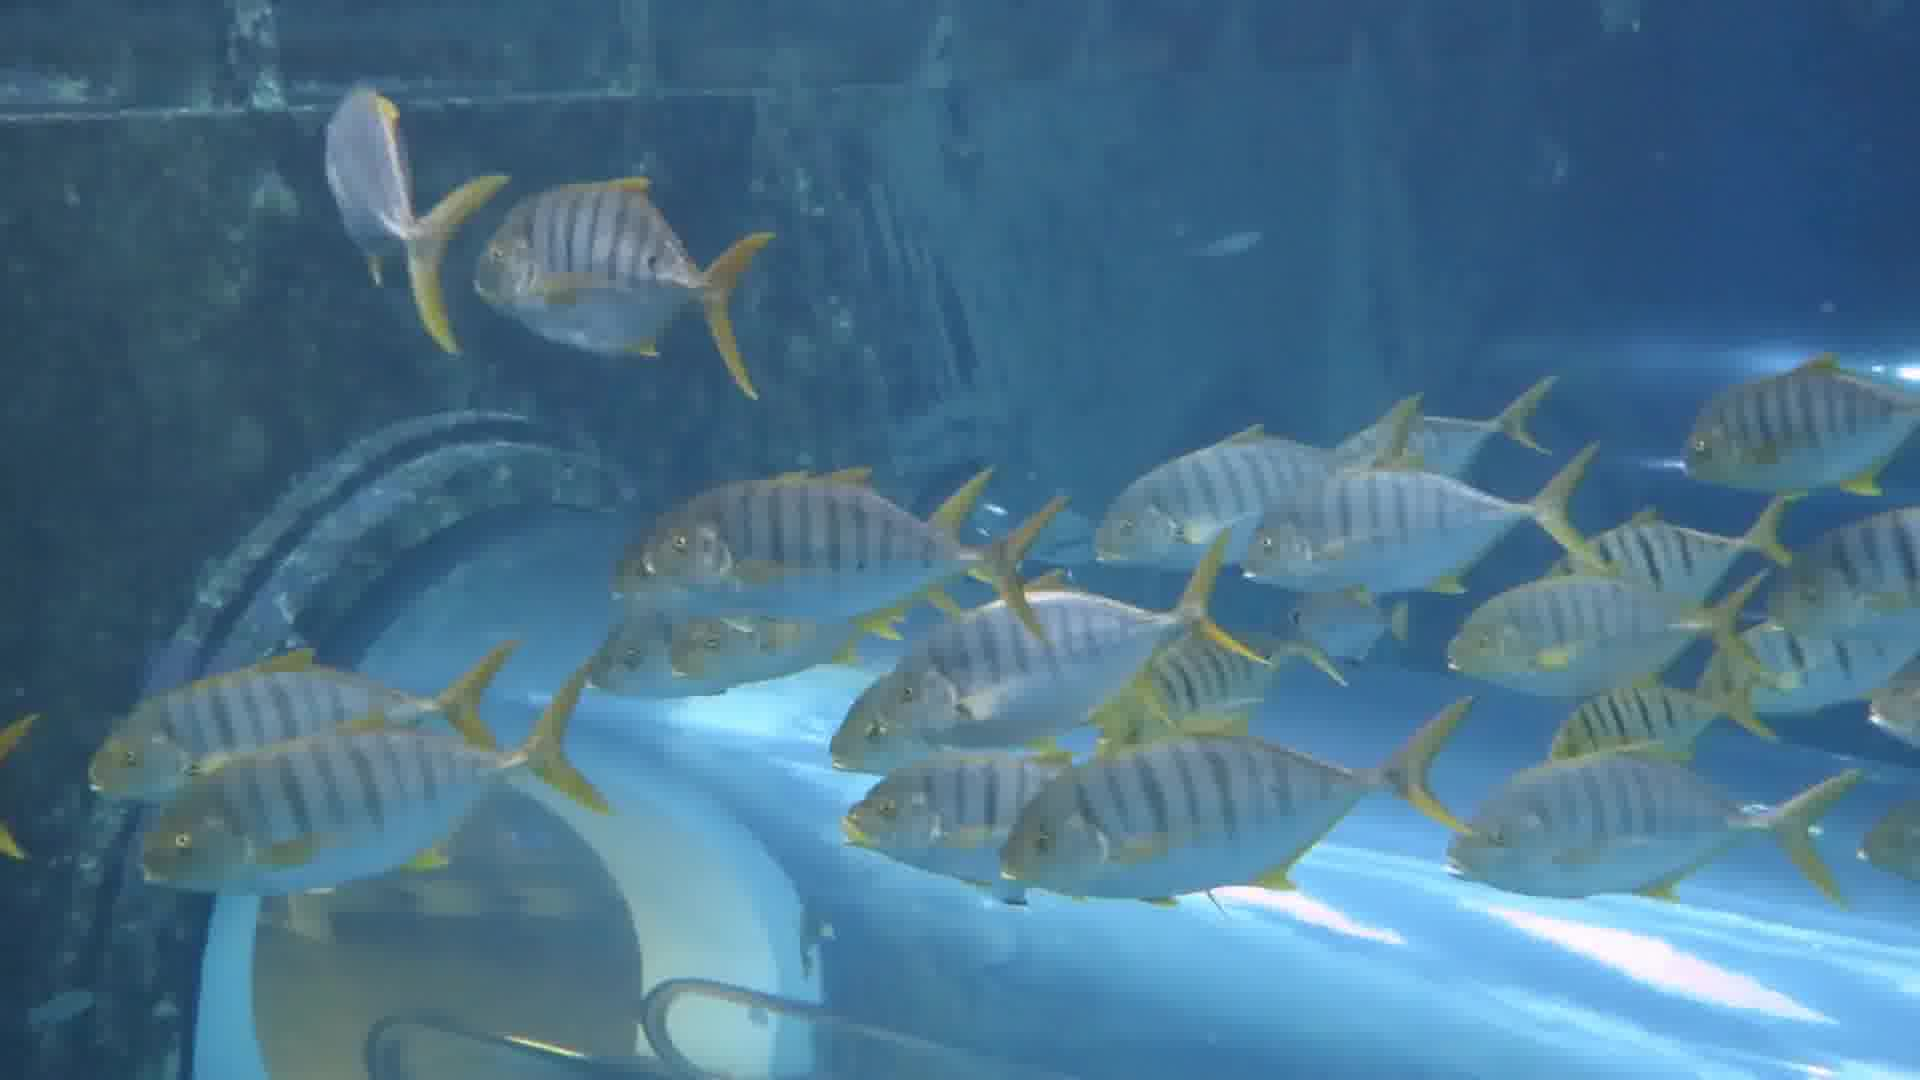Gnathanodon speciosus: (132, 687, 650, 910), (75, 611, 509, 822), (1001, 716, 1443, 905), (459, 169, 767, 394), (880, 568, 1279, 737), (603, 485, 1063, 622), (1451, 764, 1832, 898), (1254, 454, 1605, 584), (1437, 559, 1759, 684), (1671, 359, 1920, 493), (833, 746, 1048, 886)
